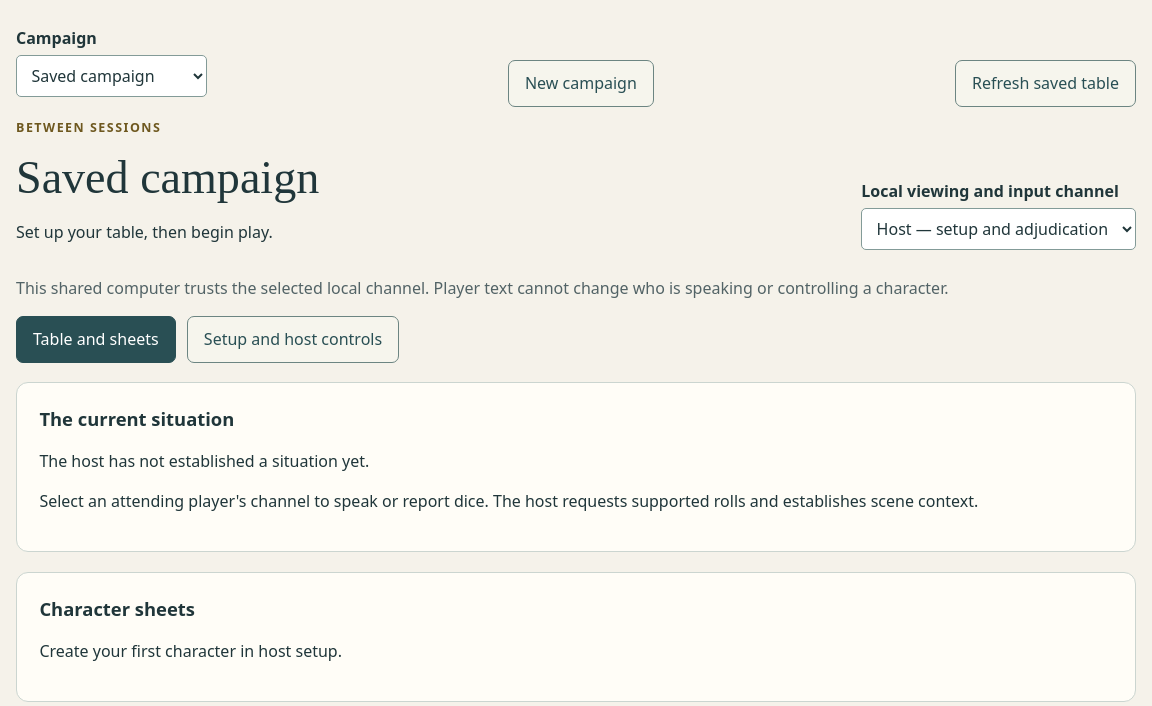
Test: durable UI retry › assigns a real source actor from host controls without creating a character
This screenshot has width=1152, height=706.
Click the button "Setup and host controls": (293, 339) [187,316,399,363]
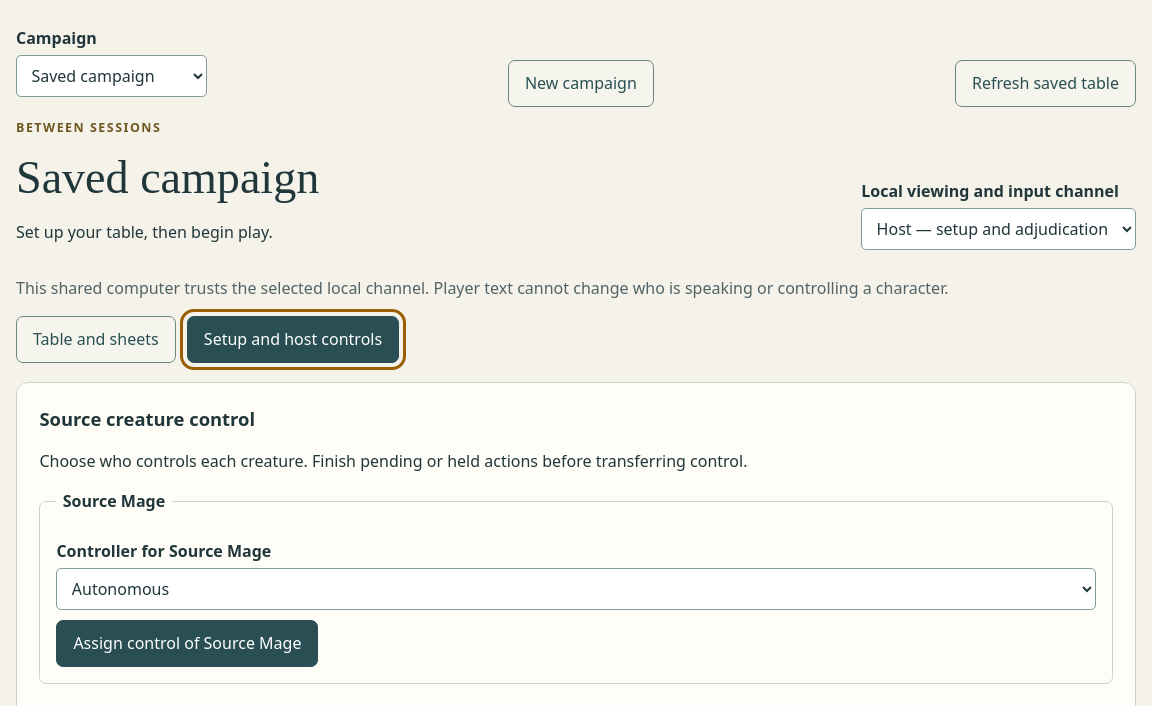
Select "Sam" in the dropdown labelled "Controller for Source Mage": (576, 589) [56,568,1096,610]
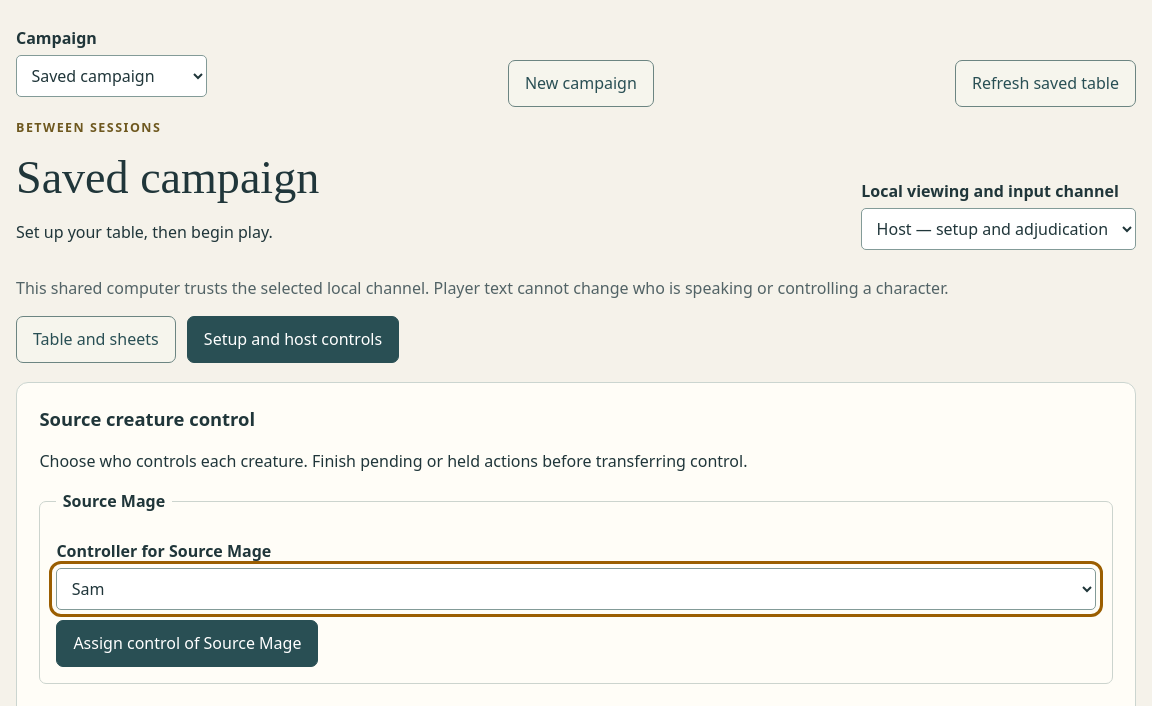
Click the button "Assign control of Source Mage": (187, 643) [56,620,318,667]
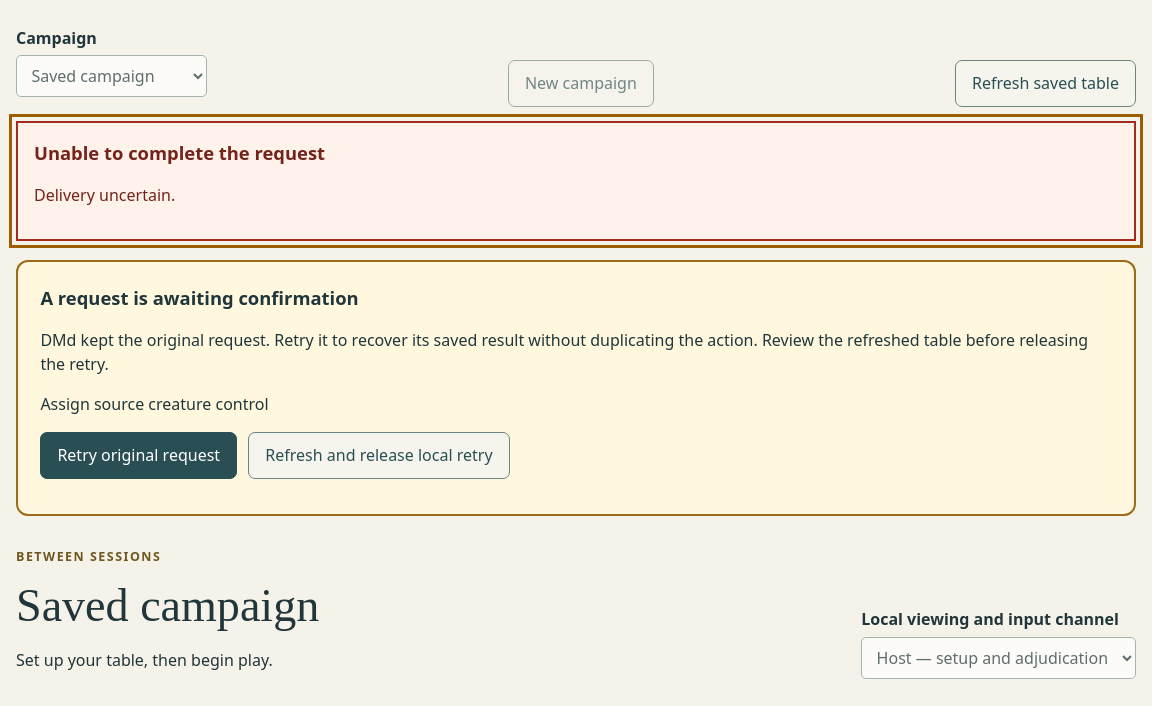
expect the text "Delivery uncertain." is shown: met, box [34,184,175,206]
